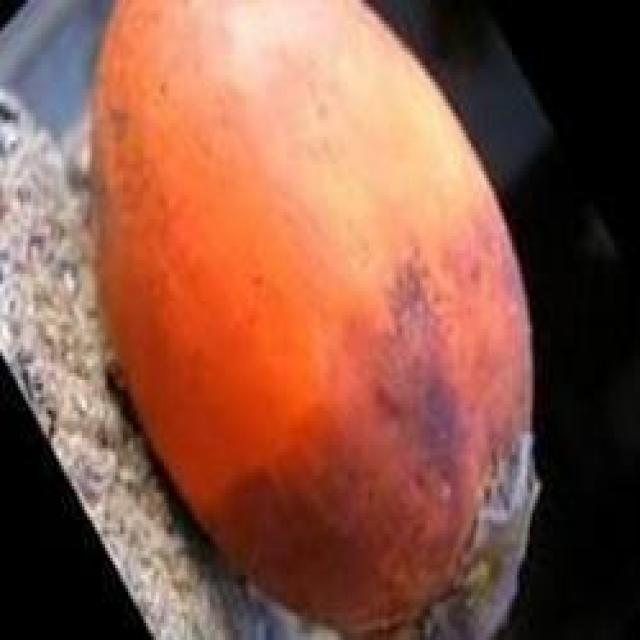good: (92, 0, 540, 637)
